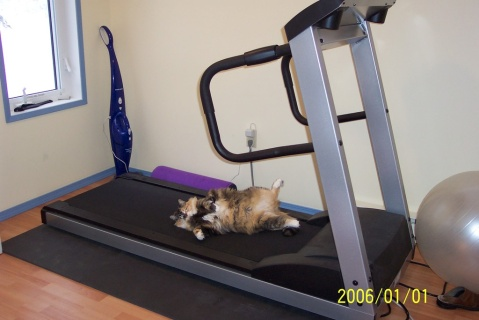Cat: (166, 178, 300, 239)
